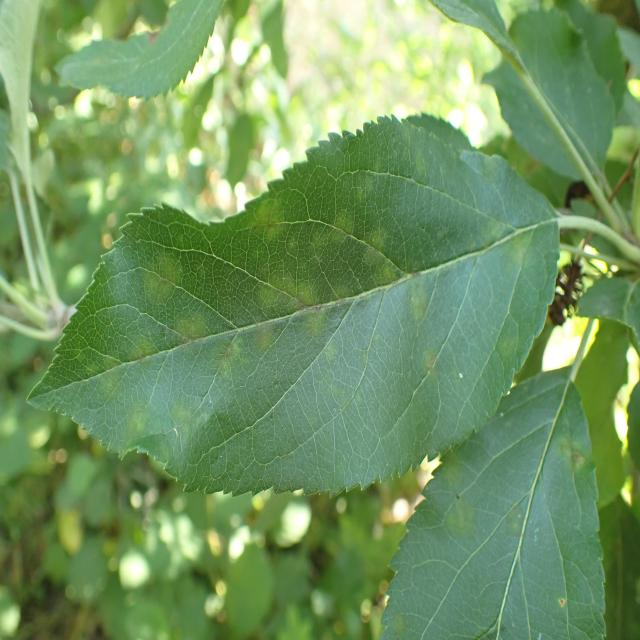scab: (39, 154, 513, 466), (396, 402, 606, 640)
